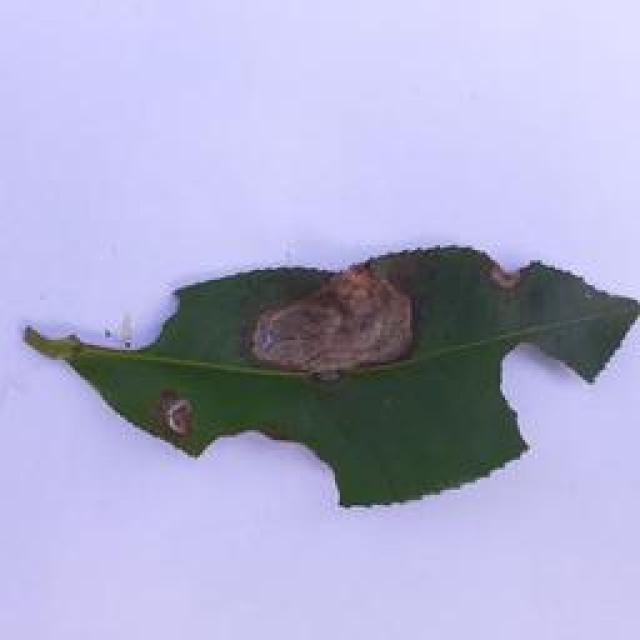Gray Blight: (20, 240, 640, 522)
